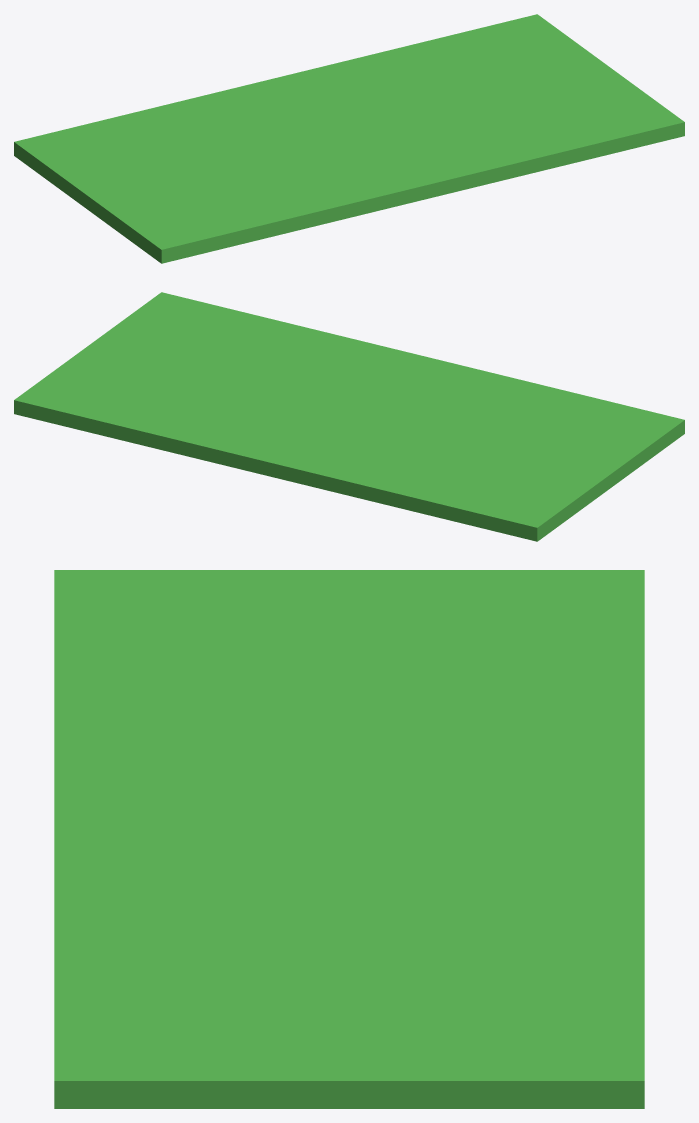
The model's file is zeminkenarsizuzun.fbx.
3 renders of one model, top to bottom at view 1: azimuth 30°, elevation 25°; view 2: azimuth 150°, elevation 25°; view 3: azimuth 270°, elevation 25°, orthographic. The views are drawn at different scales.
Visible parts, largest first — view 1: Cube.009; view 2: Cube.009; view 3: Cube.009.
Boxes of the visible parts, <box> form: Cube.009: <box>14,14,684,263</box>; Cube.009: <box>14,292,684,541</box>; Cube.009: <box>54,570,644,1108</box>.
Size of the model in its own units: 4569 by 116 by 2231.
